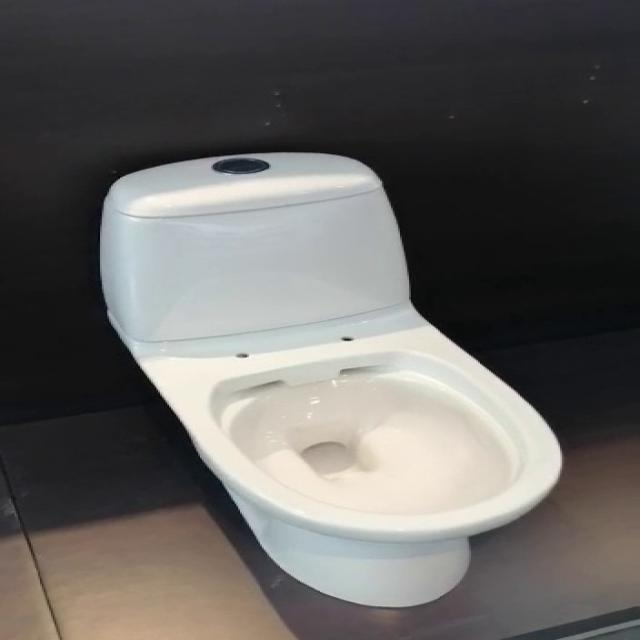toilet: (82, 145, 570, 613)
